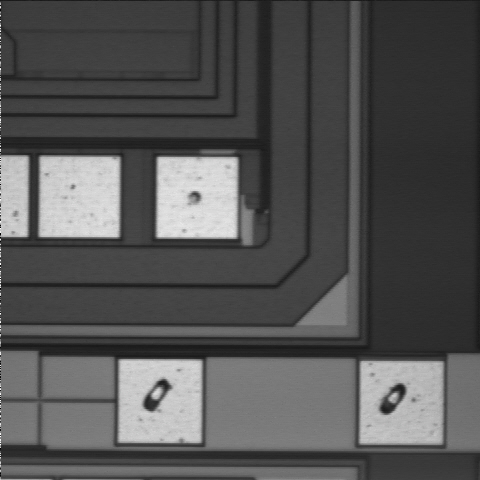pad: (119, 360, 202, 443), (360, 361, 442, 443), (157, 157, 237, 238), (40, 157, 119, 237)
